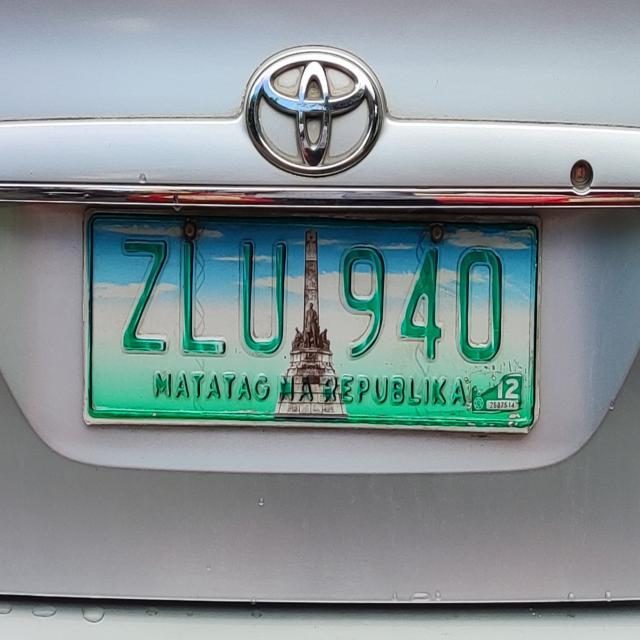LicensePlate: (63, 190, 543, 438)
